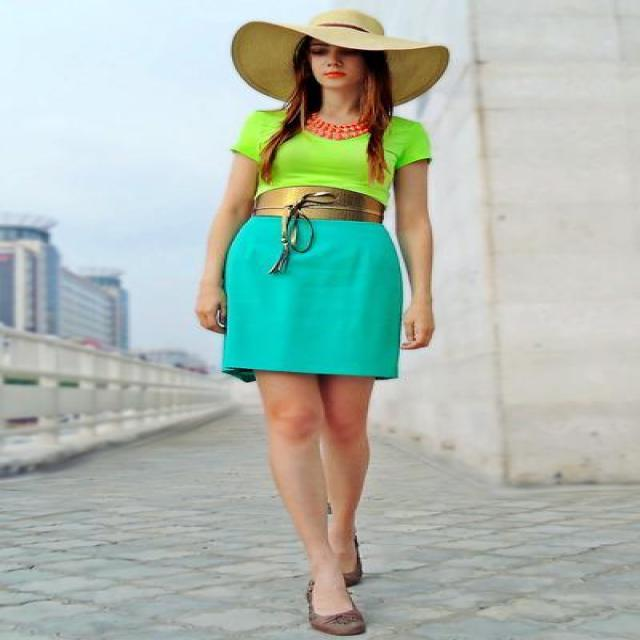hat: (230, 0, 448, 114)
shirt: (230, 109, 429, 205)
shoe: (308, 602, 367, 639)
skirt: (222, 217, 404, 382)
